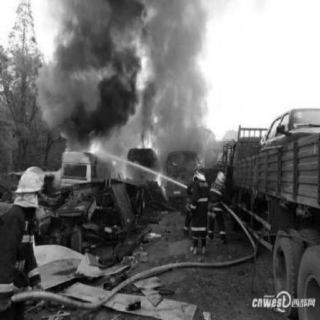Fire: (56, 95, 206, 198)
other: (192, 158, 208, 175)
